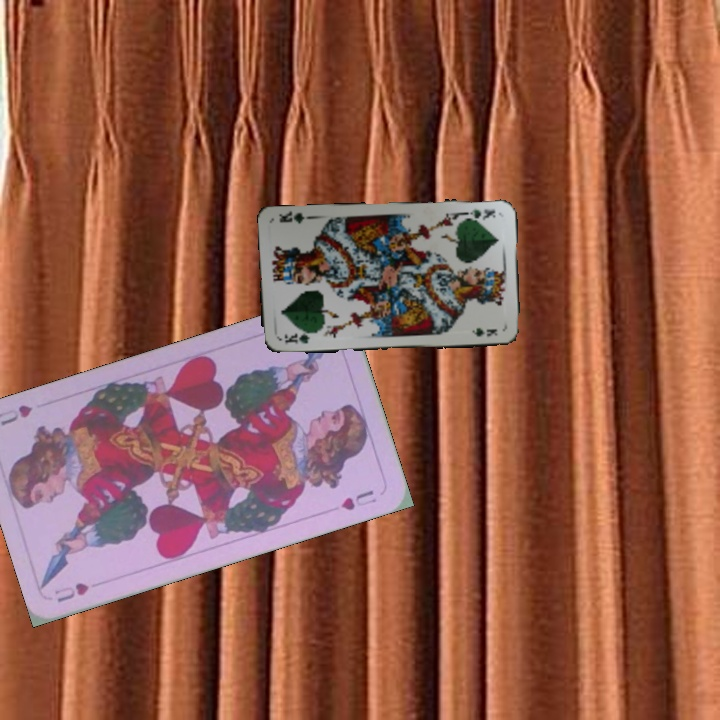GK: (280, 328, 317, 346), (461, 205, 498, 221)
HU: (50, 578, 92, 605)
